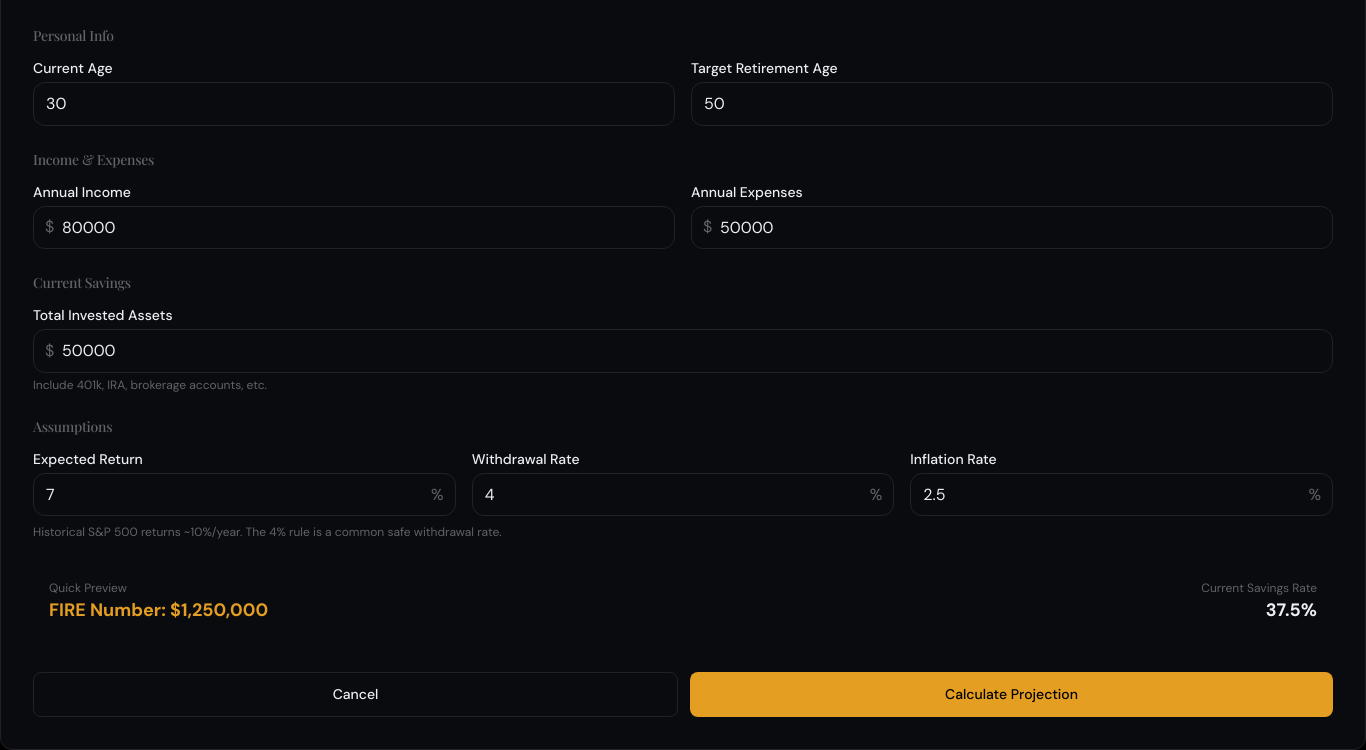
Test: FIRECalculator › Results View › shows results when Calculate button is clicked
(page scrolled)
Click the button "Calculate Projection" at (1012, 695), box [690, 672, 1333, 717]
(page scrolled)
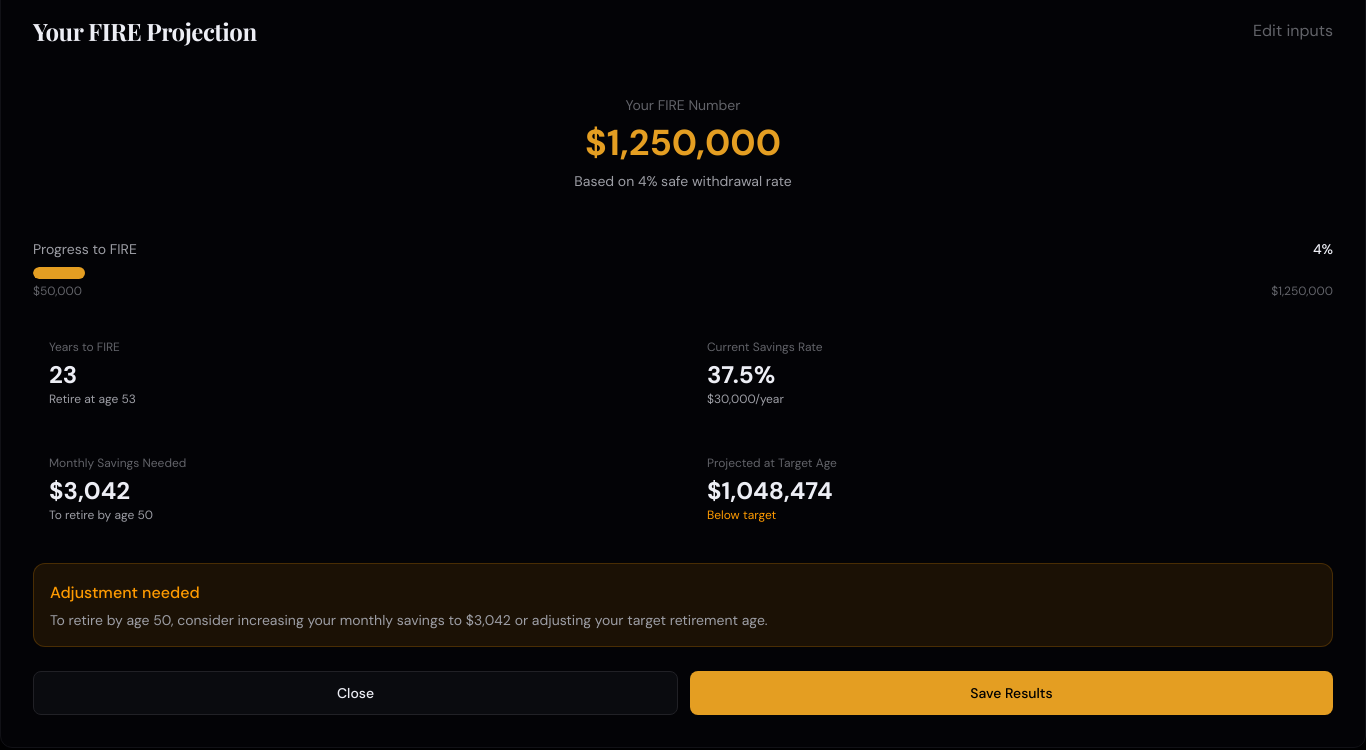
Expected: the heading "Your FIRE Projection" is shown, [33, 15, 257, 47]
Expected: the text "Your FIRE Number" is shown, [626, 96, 740, 114]
